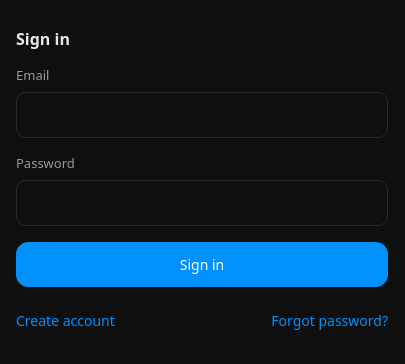
Test case: SignInScreen › tells the owner the door is shut, not that the server is broken
Type "gabriel@example.com" into the field labelled "Email" at (202, 115), box [16,92,388,138]
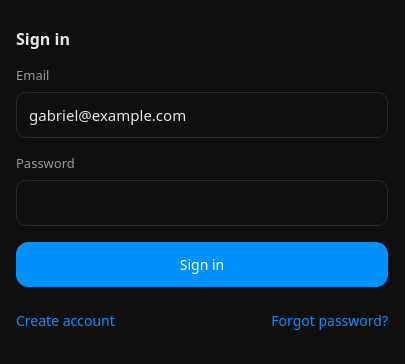
Type "the-right-one" into the password field labelled "Password" at (202, 203), box [16,180,388,226]
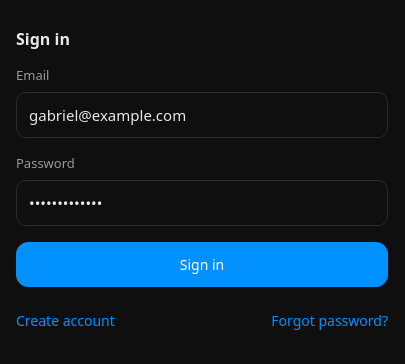
Click the button "Sign in" at (202, 264), box [16,242,388,287]
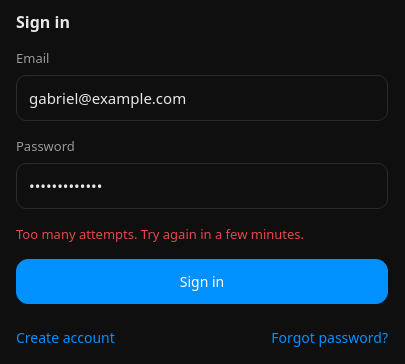
Expected: the message reads "Too many attempts. Try again in a few minutes.", [16,225,304,243]
